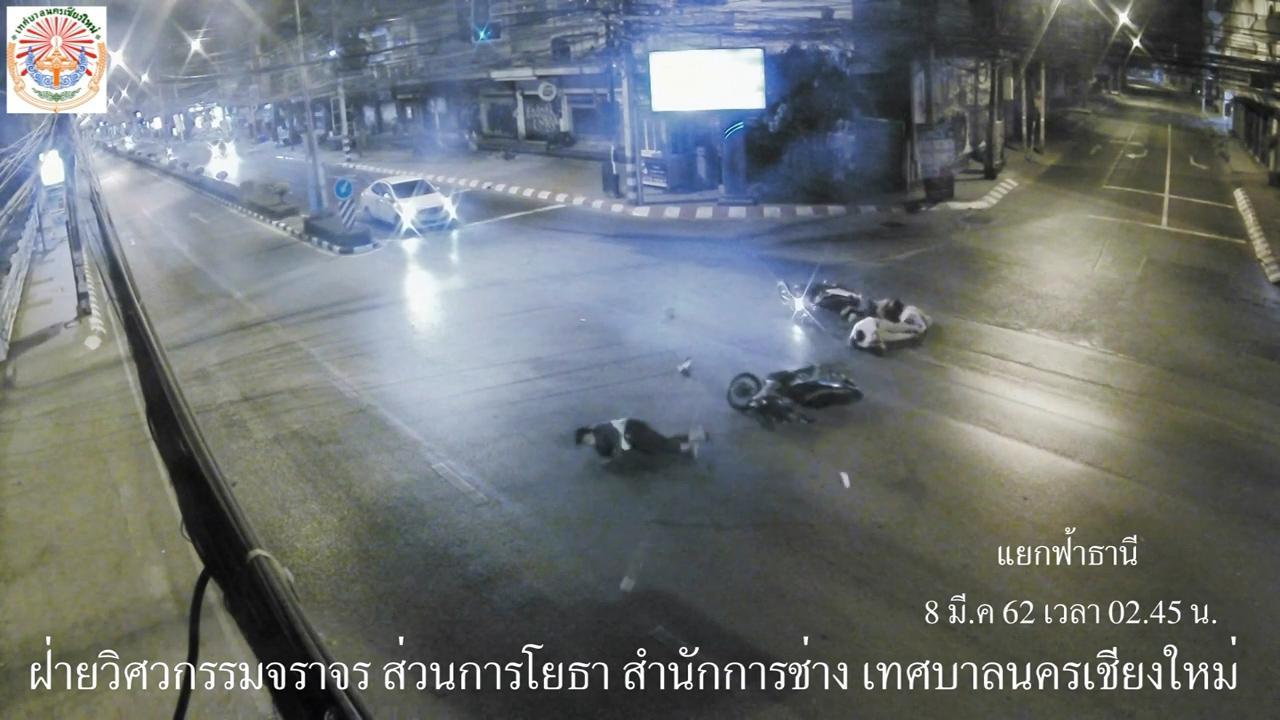accident: (570, 416, 715, 472)
